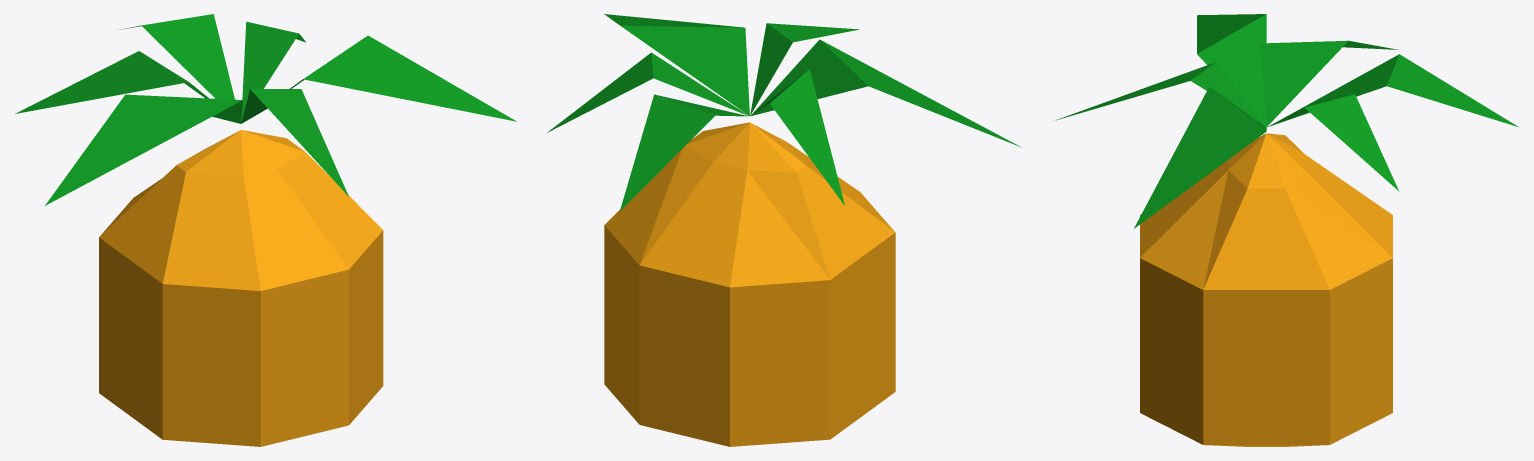
Rendered from inv_tenti_pineapple.obj.
3 views of the same model, side by side, from view 1: azimuth 30°, elevation 25°; view 2: azimuth 150°, elevation 25°; view 3: azimuth 270°, elevation 25° (orthographic). The views are drawn at different scales.
Bounding box in the file's own units: 0.625 × 0.4766 × 0.5781.
